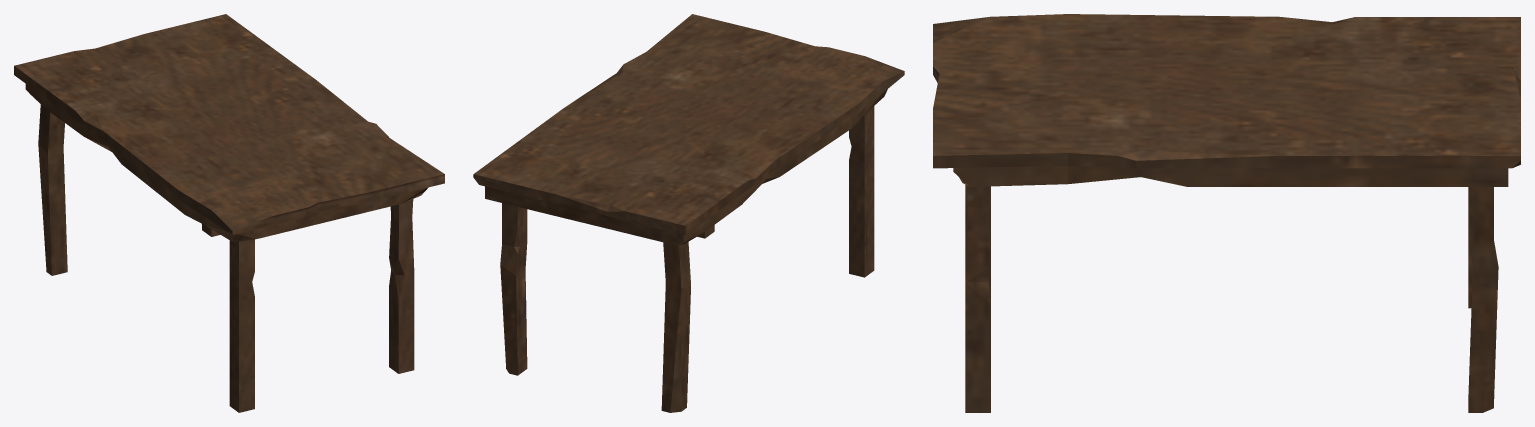
Rendered from Study_Table.fbx.
The picture shows the model from 3 angles, left to right: view 1: azimuth 30°, elevation 25°; view 2: azimuth 150°, elevation 25°; view 3: azimuth 270°, elevation 25°; orthographic projection. The views are drawn at different scales.
Parts seen in each view (by area): view 1: study_table; view 2: study_table; view 3: study_table.
Boxes of the visible parts, left/top/right/bottom form: study_table: left=14, top=14, right=444, bottom=412; study_table: left=473, top=14, right=904, bottom=412; study_table: left=933, top=14, right=1520, bottom=412.
Bounding box in the file's own units: 0.9098 × 0.8051 × 1.59.
